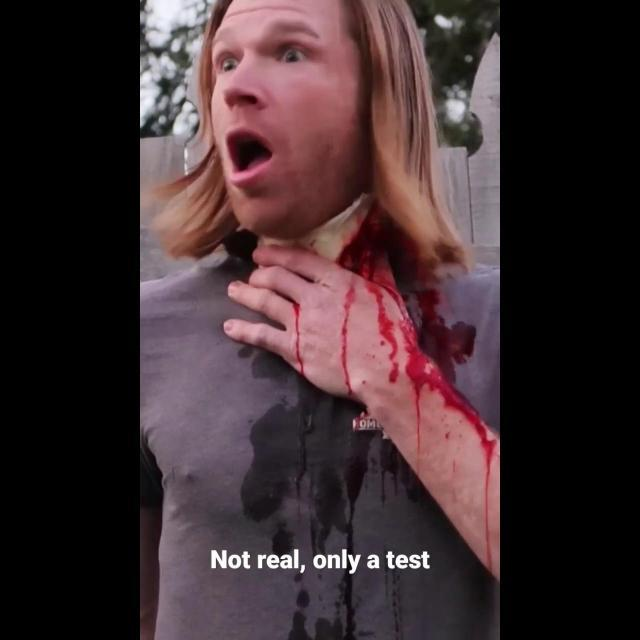blood: (387, 324, 499, 578), (402, 288, 476, 384), (358, 251, 414, 336), (341, 284, 356, 399), (292, 302, 309, 380)
